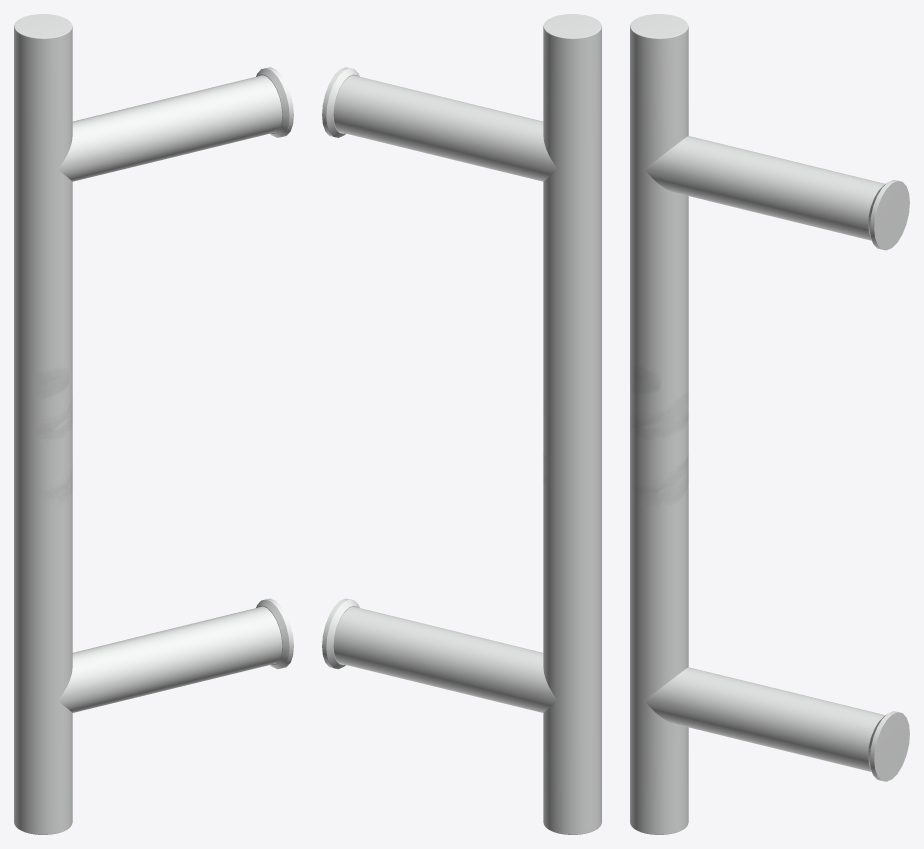
Rendered from handle.glb.
3 renders of one model, left to right at view 1: azimuth 30°, elevation 25°; view 2: azimuth 150°, elevation 25°; view 3: azimuth 330°, elevation 25°, orthographic.
Parts seen in each view (by area): view 1: Door_handle; view 2: Door_handle; view 3: Door_handle.
Boxes of the visible parts, x1,y1,x2,y2 form: Door_handle: [14, 14, 293, 834]; Door_handle: [322, 14, 601, 834]; Door_handle: [630, 14, 909, 834].
Bounding box in the file's own units: 0.2007 × 0.5918 × 0.0481.
Materials: 1 (1 with a texture image).
